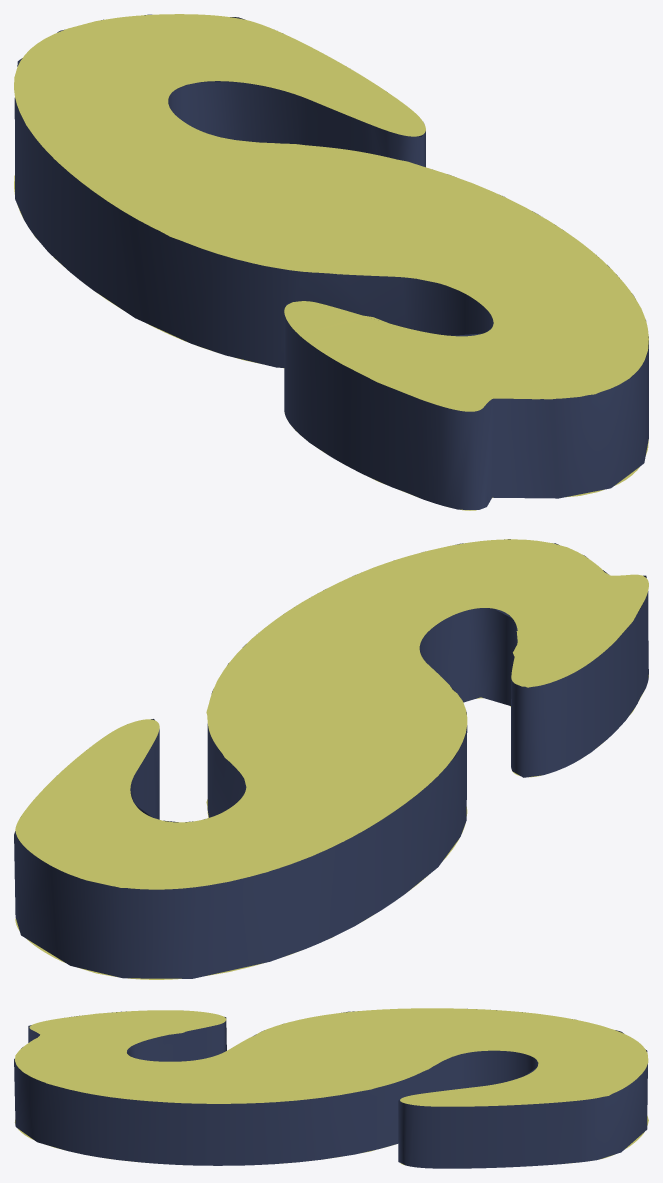
File: s_boss.fbx
3 renders of one model, top to bottom at view 1: azimuth 30°, elevation 25°; view 2: azimuth 150°, elevation 25°; view 3: azimuth 270°, elevation 25°, orthographic. The views are drawn at different scales.
Parts seen in each view (by area): view 1: S; view 2: S; view 3: S.
Part boxes in pixels (x1,y1,x2,y2): S: (14, 14, 648, 510); S: (14, 539, 648, 979); S: (14, 1008, 648, 1168).
Size of the model in its own units: 0.5453 by 0.1599 by 1.49.
